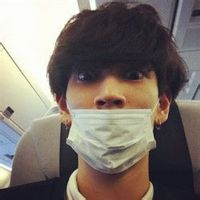face_mask: (65, 50, 158, 170)
